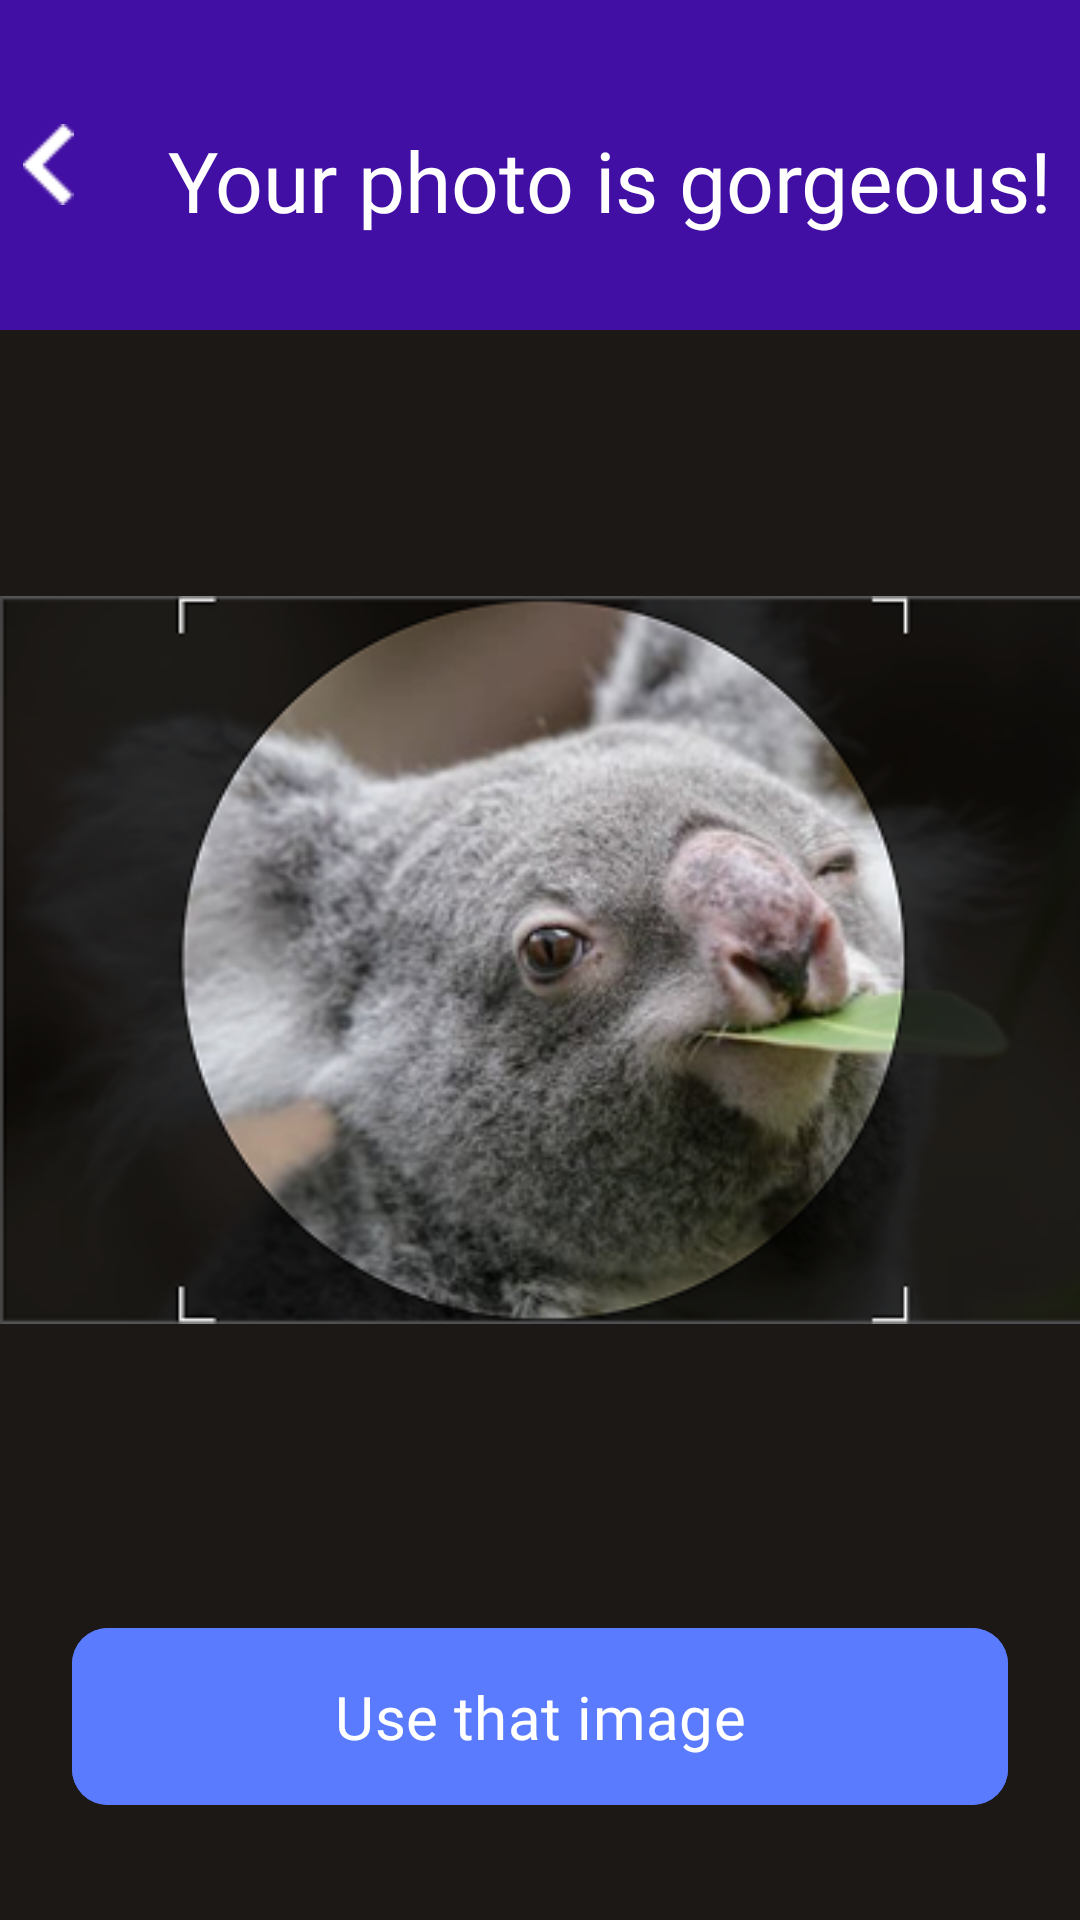

Icons on this 1080*1920 Android screen, each with the point to tap as (x=x, y=y):
arrow: (x=48, y=164)
